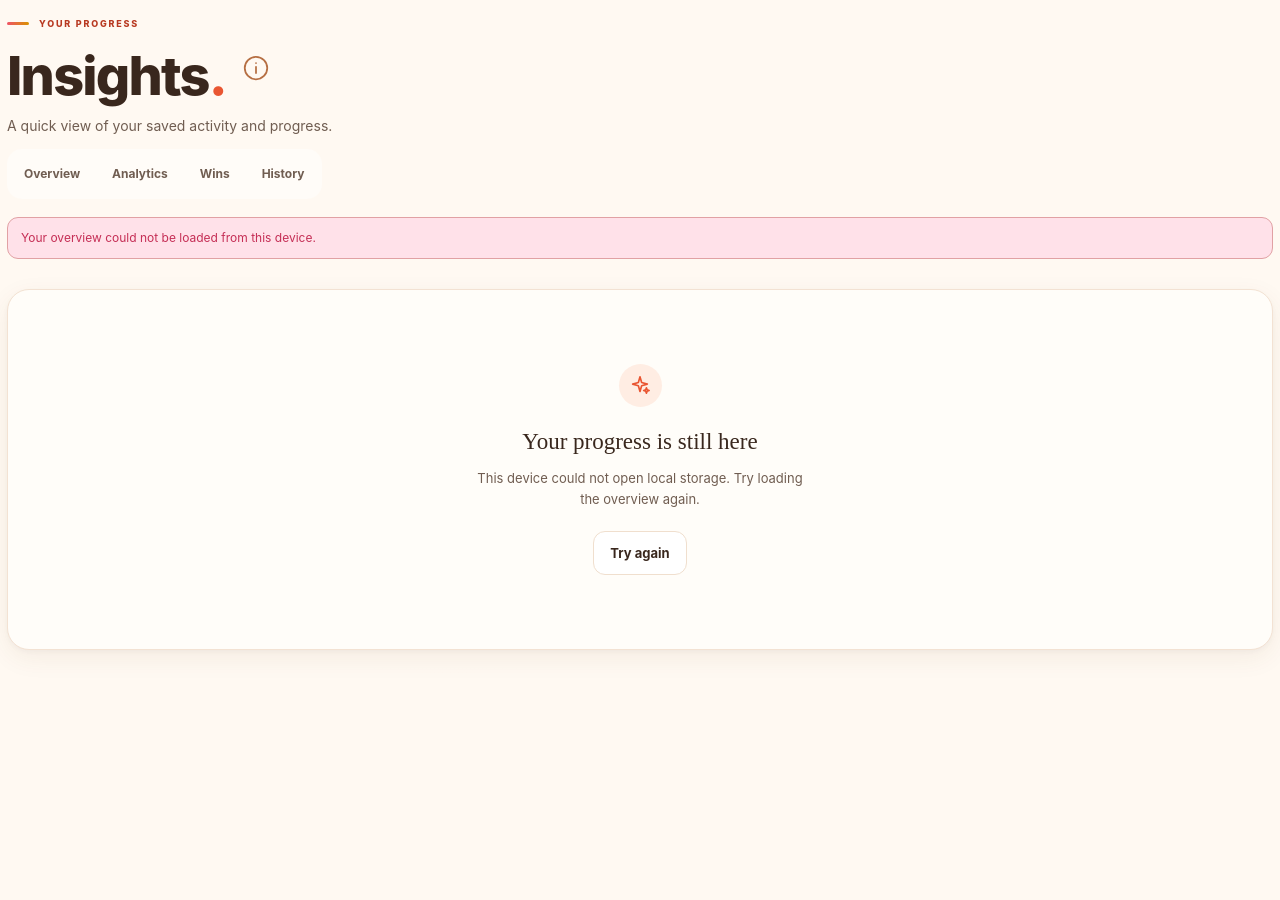
Scenario: local progress dashboard › shows a retry state instead of an empty account when local reads fail
Expected: the message shows "could not be loaded", 21,230 -> 316,244
Expected: the heading "Your progress is still here" is shown, 522,424 -> 758,459
What coordinates should you click on to do the following:
click the button "Try again"
I would click on:
 (640, 553)
Its box is 593,531 -> 687,575.
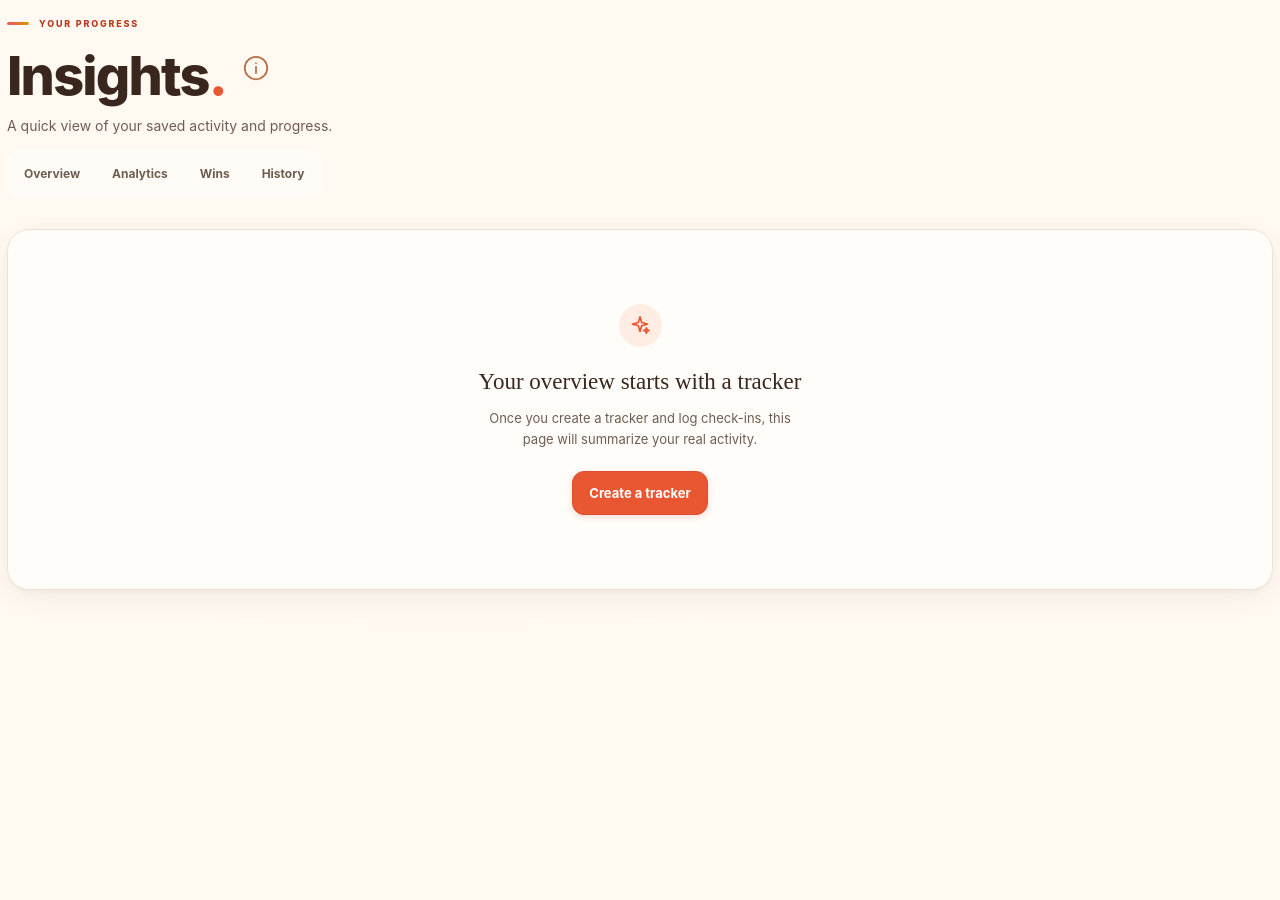
Result: the heading "Your overview starts with a tracker" is shown at 479,364 -> 801,399
